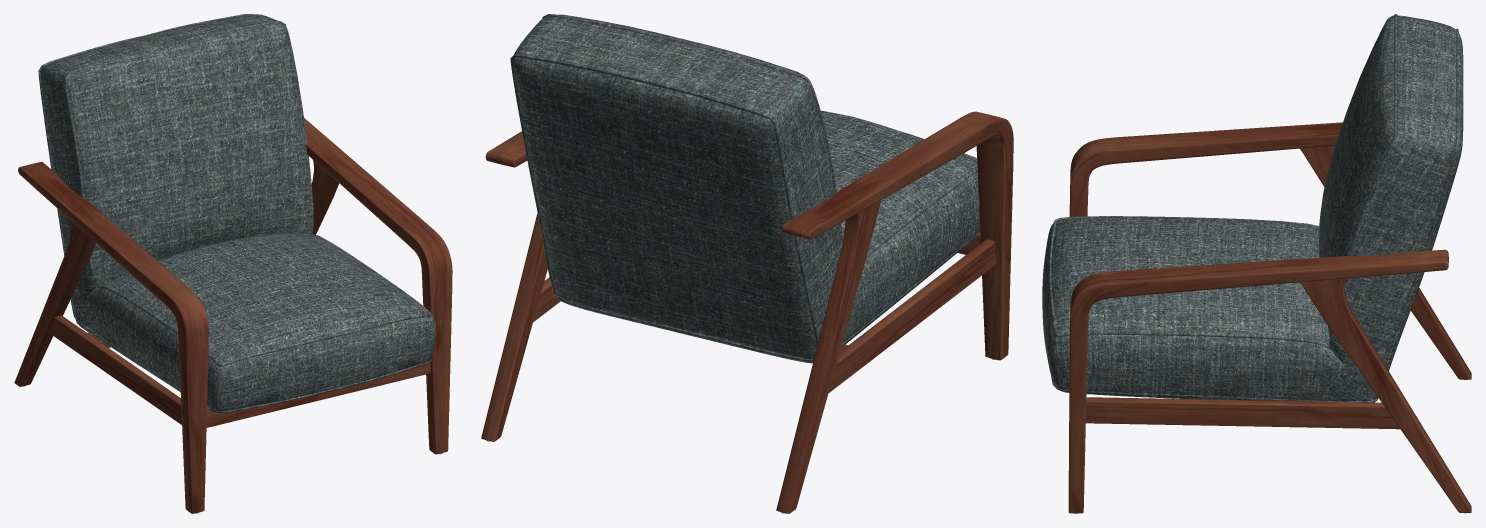
3 views of the same model, side by side, from view 1: azimuth 30°, elevation 25°; view 2: azimuth 150°, elevation 25°; view 3: azimuth 270°, elevation 25° (orthographic). The views are drawn at different scales.
Visible parts, largest first — view 1: B07124WN69; view 2: B07124WN69; view 3: B07124WN69.
Part boxes in pixels (x1,y1,x2,y2): B07124WN69: (14, 14, 452, 513); B07124WN69: (481, 14, 1013, 513); B07124WN69: (1042, 14, 1471, 513).
Size of the model in its own units: 0.7188 by 0.8636 by 0.889.
1 material, 1 textured.
